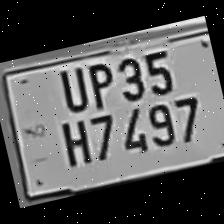3: (108, 50, 147, 103)
4: (110, 100, 148, 160)
5: (138, 45, 176, 97)
7: (168, 89, 208, 147), (82, 109, 119, 166)
9: (140, 96, 178, 152)
H: (51, 114, 95, 172)
P: (76, 54, 118, 113)
U: (50, 58, 90, 114)
